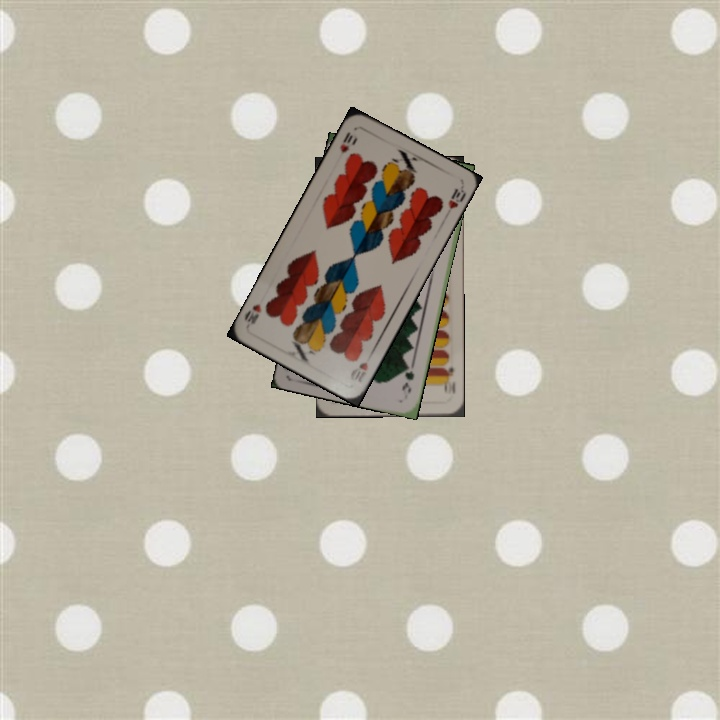E10: (440, 363, 458, 396)
G9: (398, 360, 417, 395)
H10: (350, 358, 371, 385), (335, 127, 355, 155)
